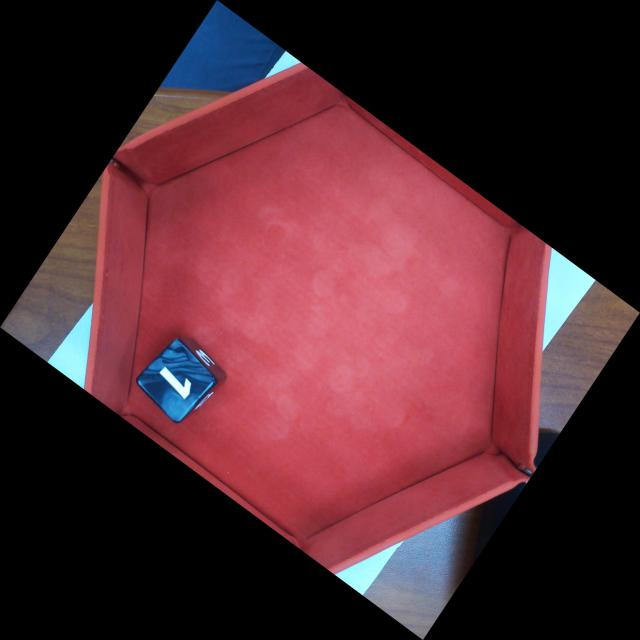dice: (135, 338, 217, 424)
